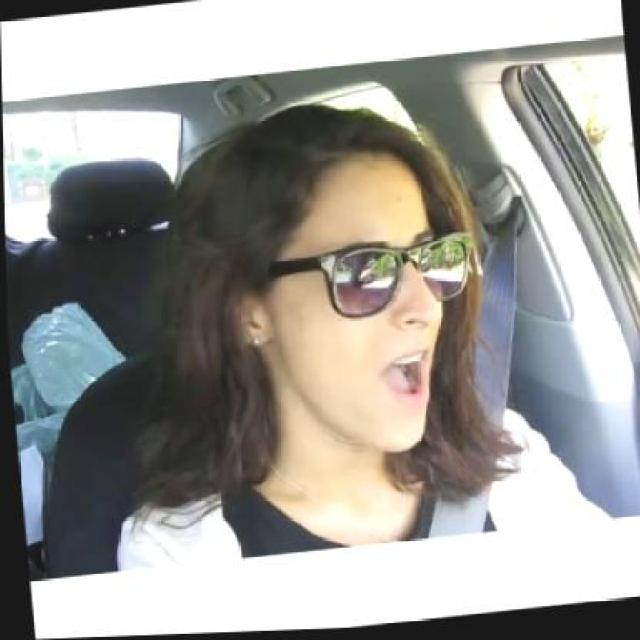inattentif: (206, 94, 465, 471)
